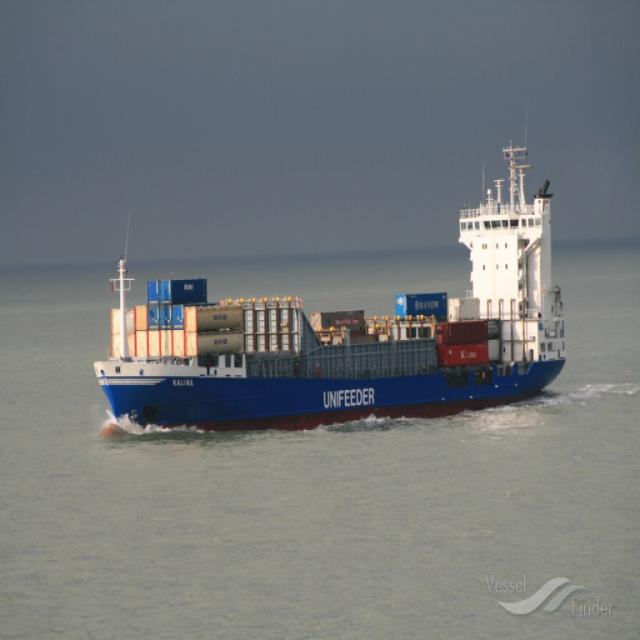Container Ship: (98, 151, 567, 444)
